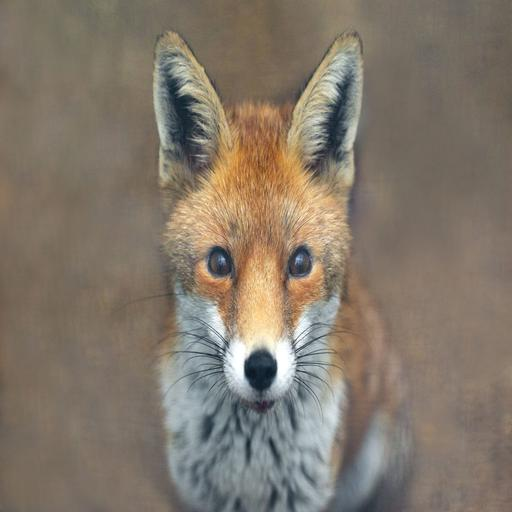Fox: (150, 22, 430, 512)
